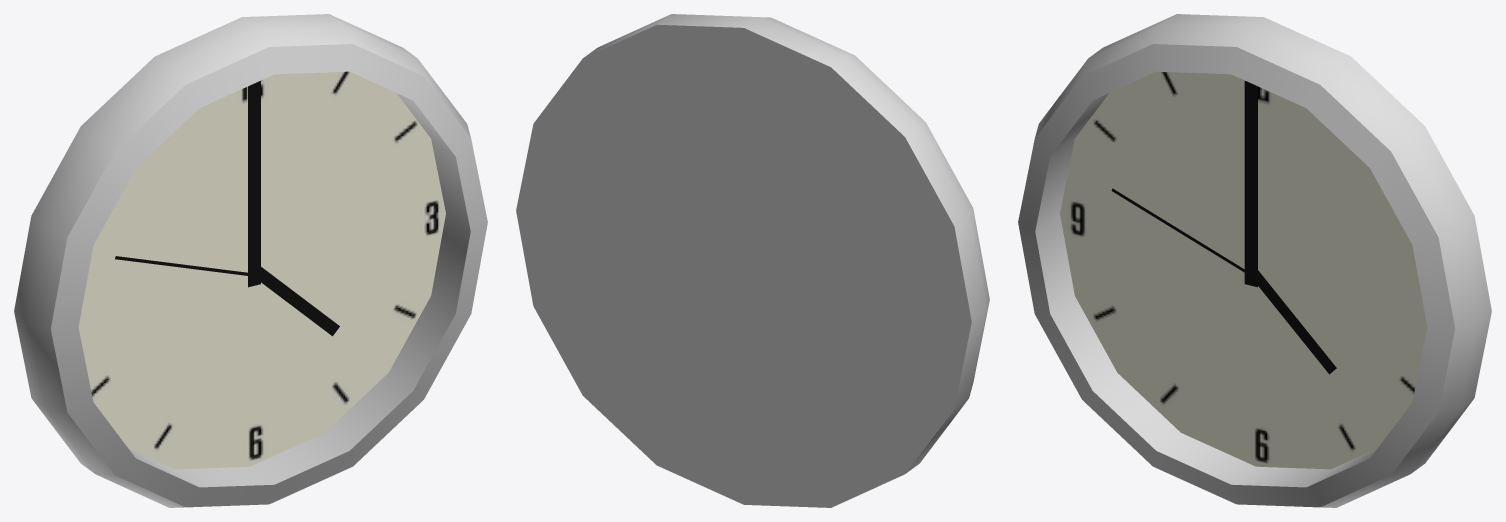
The model's file is officeClock.glb.
The picture shows the model from 3 angles, left to right: view 1: azimuth 30°, elevation 25°; view 2: azimuth 150°, elevation 25°; view 3: azimuth 330°, elevation 25°; orthographic projection.
Parts seen in each view (by area): view 1: Cylinder_0; view 2: Cylinder_0; view 3: Cylinder_0.
Part boxes in pixels (box(x1,y1,x2,y2)): Cylinder_0: box(14, 14, 487, 507); Cylinder_0: box(516, 14, 989, 507); Cylinder_0: box(1018, 14, 1491, 507).
Size of the model in its own units: 0.5481 by 0.5481 by 0.0682.
3 materials, 1 textured.
